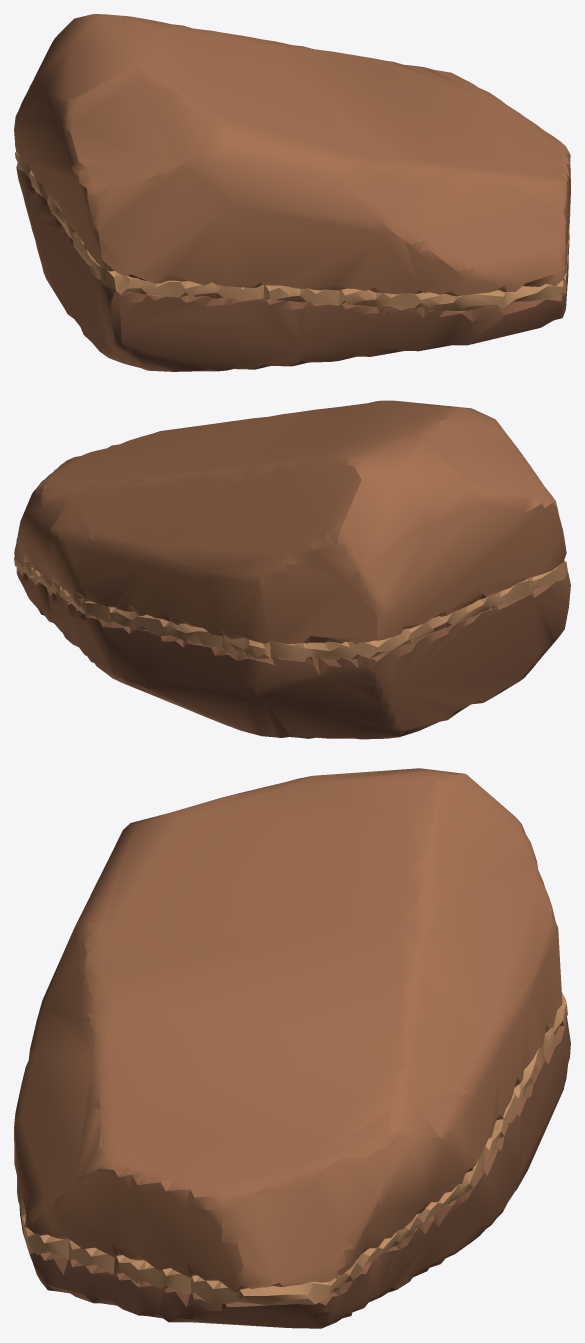
Rendered from boulder.glb.
3 renders of one model, top to bottom at view 1: azimuth 30°, elevation 25°; view 2: azimuth 150°, elevation 25°; view 3: azimuth 270°, elevation 25°, orthographic. The views are drawn at different scales.
Visible parts, largest first — view 1: rock2, bed0, seam1; view 2: rock2, bed0, seam1; view 3: rock2, bed0, seam1.
Part boxes in pixels (left/top/right/bottom): rock2: left=14, top=14, right=570, bottom=296; bed0: left=16, top=163, right=569, bottom=371; seam1: left=15, top=151, right=570, bottom=310; rock2: left=14, top=400, right=566, bottom=645; bed0: left=16, top=567, right=570, bottom=739; seam1: left=14, top=554, right=567, bottom=659; rock2: left=14, top=768, right=562, bottom=1291; bed0: left=19, top=1016, right=570, bottom=1328; seam1: left=17, top=992, right=567, bottom=1305.
Size of the model in its own units: 1.46 by 0.7371 by 1.13.
